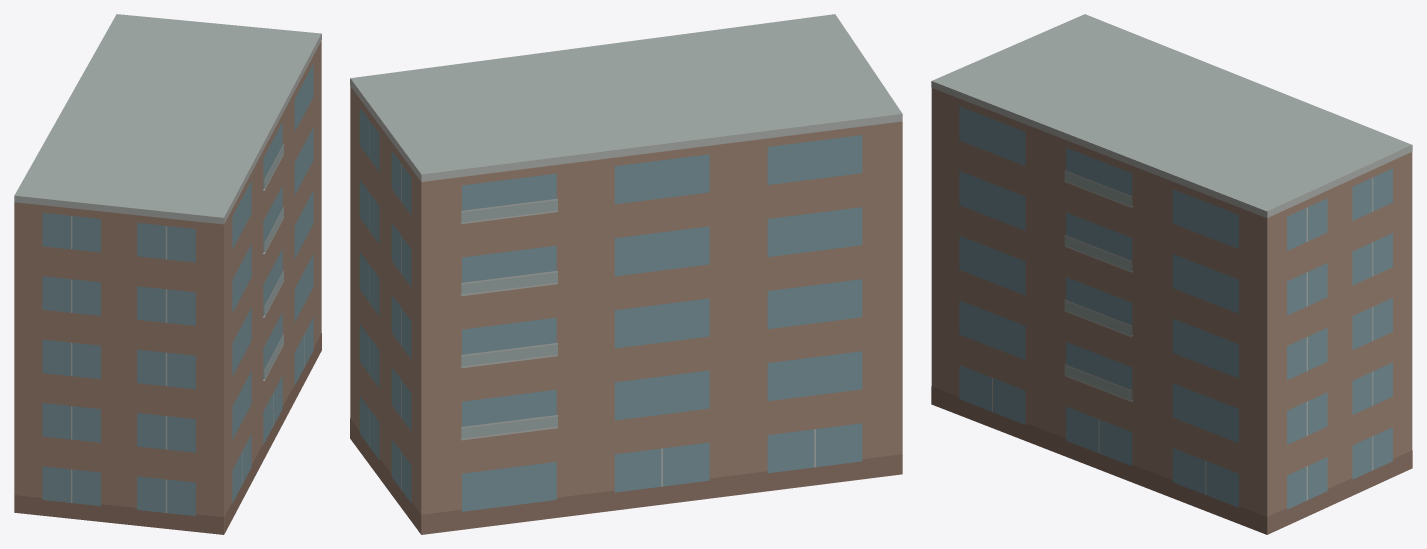
Rendered from survey-upis-32882904.glb.
3 views of the same model, side by side, from view 1: azimuth 30°, elevation 25°; view 2: azimuth 150°, elevation 25°; view 3: azimuth 270°, elevation 25° (orthographic). The views are drawn at different scales.
Parts seen in each view (by area): view 1: survey-upis-32882904.tmp; view 2: survey-upis-32882904.tmp; view 3: survey-upis-32882904.tmp.
Boxes of the visible parts, x1,y1,x2,y2 form: survey-upis-32882904.tmp: (14, 14, 321, 534); survey-upis-32882904.tmp: (350, 14, 902, 534); survey-upis-32882904.tmp: (931, 14, 1412, 534).
Bounding box in the file's own units: 15.4 × 11.75 × 15.85.
